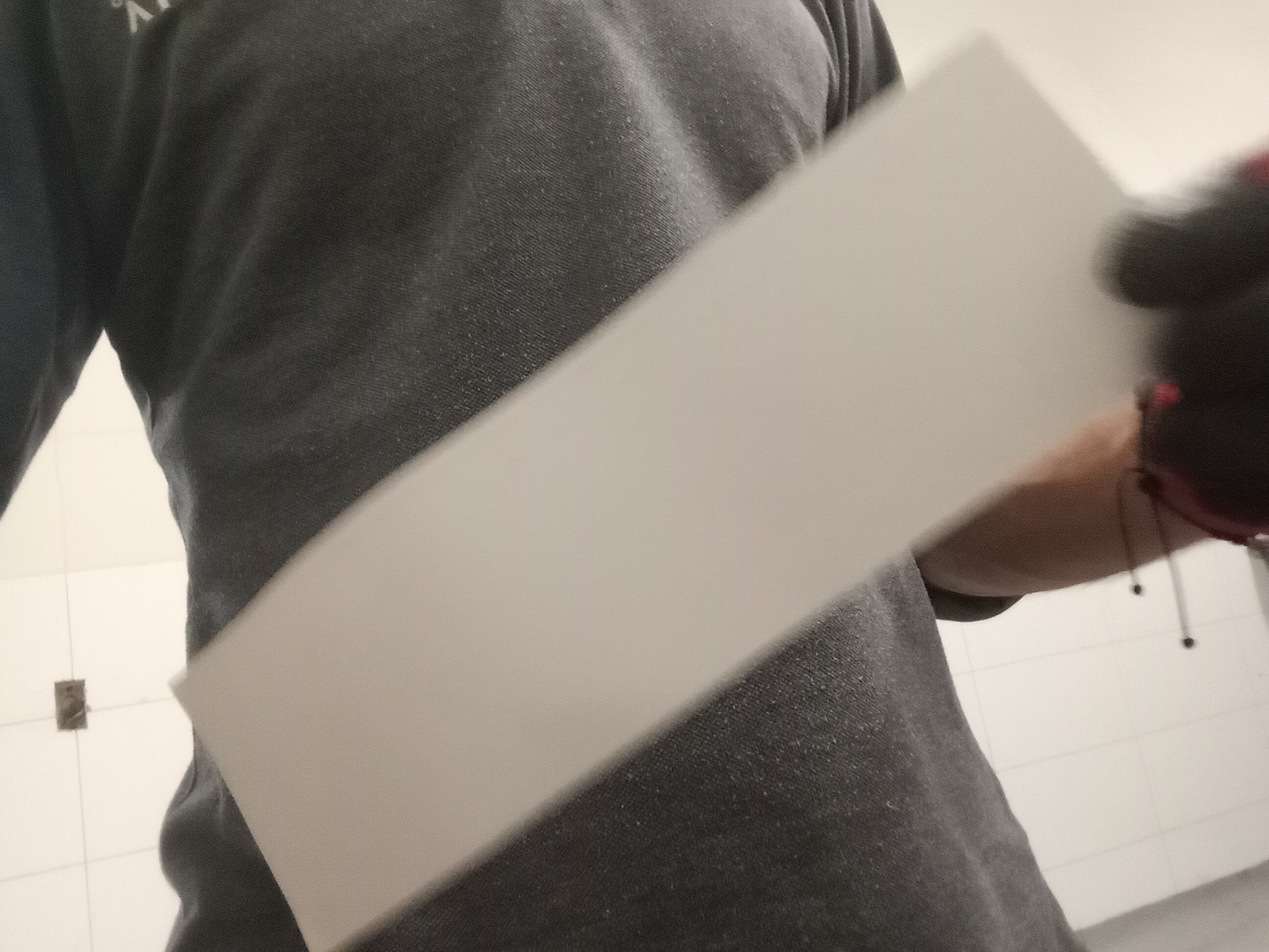Papel: (174, 32, 1169, 952)
